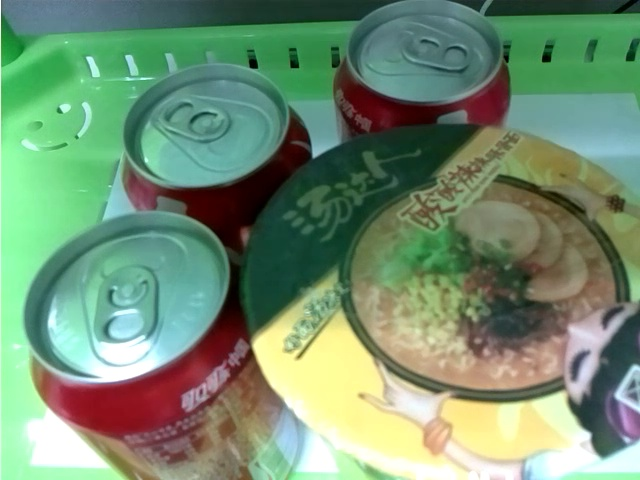cocacola: (14, 205, 300, 480), (120, 68, 311, 217), (325, 4, 515, 130)
noodles: (248, 123, 640, 480)
